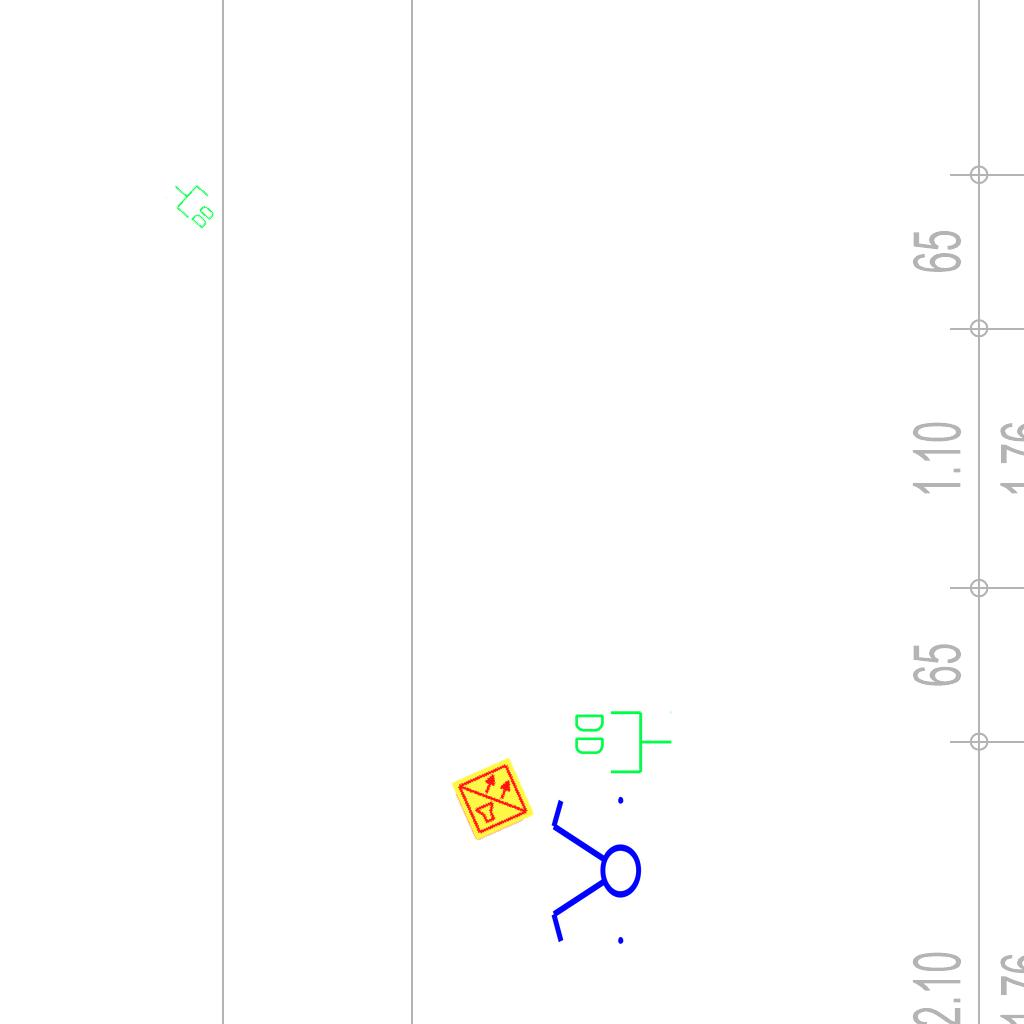Datenanschluss_zweifach: (571, 707, 674, 776), (163, 173, 224, 233)
OKW_Multisensormelder_(Kombination_optischer_Rauch-Kahlenmonoxid_Waerme-Melder): (449, 755, 537, 843)
Serienschalter: (547, 788, 643, 956)
